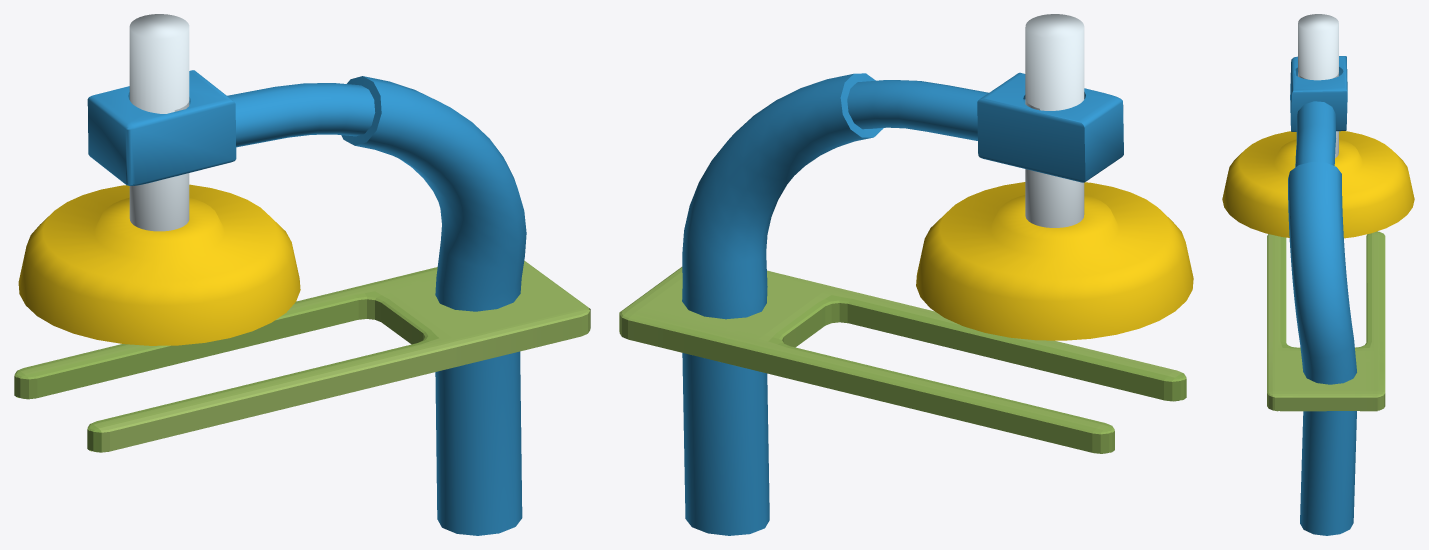
File: engel_________.fbx
The picture shows the model from 3 angles, left to right: view 1: azimuth 30°, elevation 25°; view 2: azimuth 150°, elevation 25°; view 3: azimuth 270°, elevation 25°; orthographic projection. The views are drawn at different scales.
Parts seen in each view (by area): view 1: engel, engel.002, Cube, engel.001; view 2: engel, Cube, engel.002, engel.001; view 3: engel, engel.002, Cube, engel.001.
Part boxes in pixels (bbox=[...]): engel: bbox=[87, 70, 526, 535]; engel.002: bbox=[18, 184, 300, 345]; Cube: bbox=[14, 260, 590, 452]; engel.001: bbox=[129, 14, 189, 231]; engel: bbox=[682, 72, 1123, 535]; Cube: bbox=[619, 267, 1186, 453]; engel.002: bbox=[916, 182, 1193, 340]; engel.001: bbox=[1025, 14, 1084, 227]; engel: bbox=[1288, 56, 1356, 535]; engel.002: bbox=[1222, 131, 1414, 238]; Cube: bbox=[1267, 231, 1385, 411]; engel.001: bbox=[1298, 14, 1338, 158].
Size of the model in its own units: 693 by 732 by 325.
Materials: 1 (1 with a texture image).
